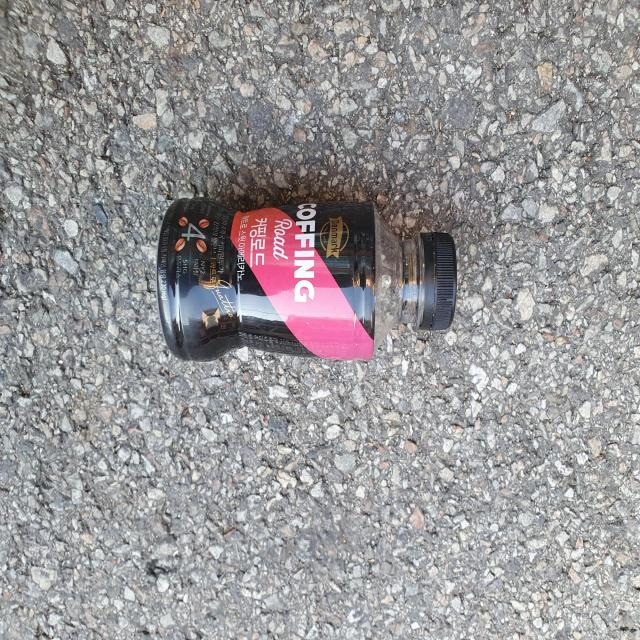plastic: (156, 197, 457, 361)
